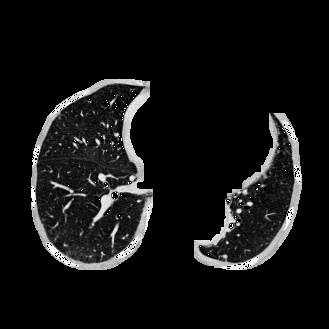PN: (223, 254, 227, 258)
